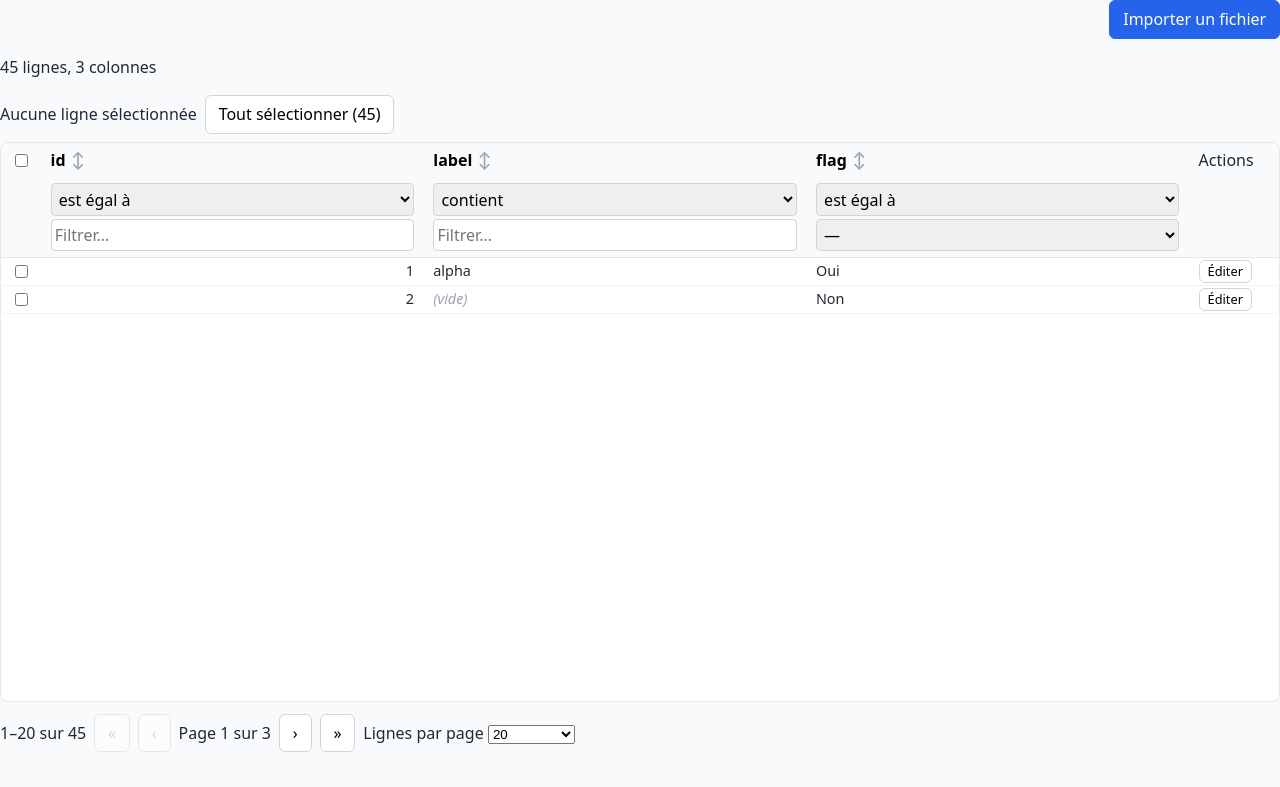
Test: DataTab: table › deletes the ticked rows by id after confirmation, then refreshes
The image size is (1280, 787).
Click the checkbox named "Sélectionner la ligne 1".
click(22, 271)  # box x1=15 y1=265 x2=28 y2=278
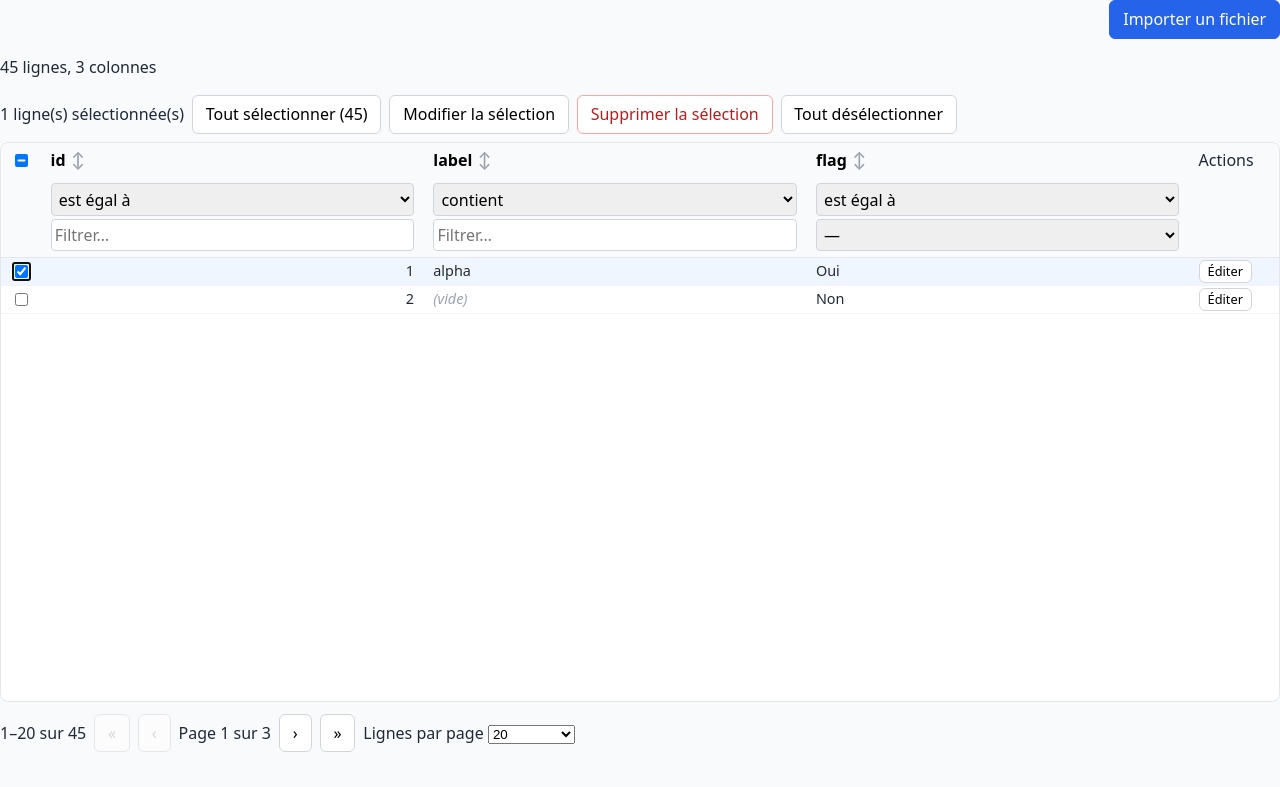
Expected: the text "1 ligne(s) sélectionnée(s)" is shown, x1=0 y1=102 x2=184 y2=126
Click the button "Supprimer la sélection".
click(675, 114)  # box x1=577 y1=95 x2=772 y2=134
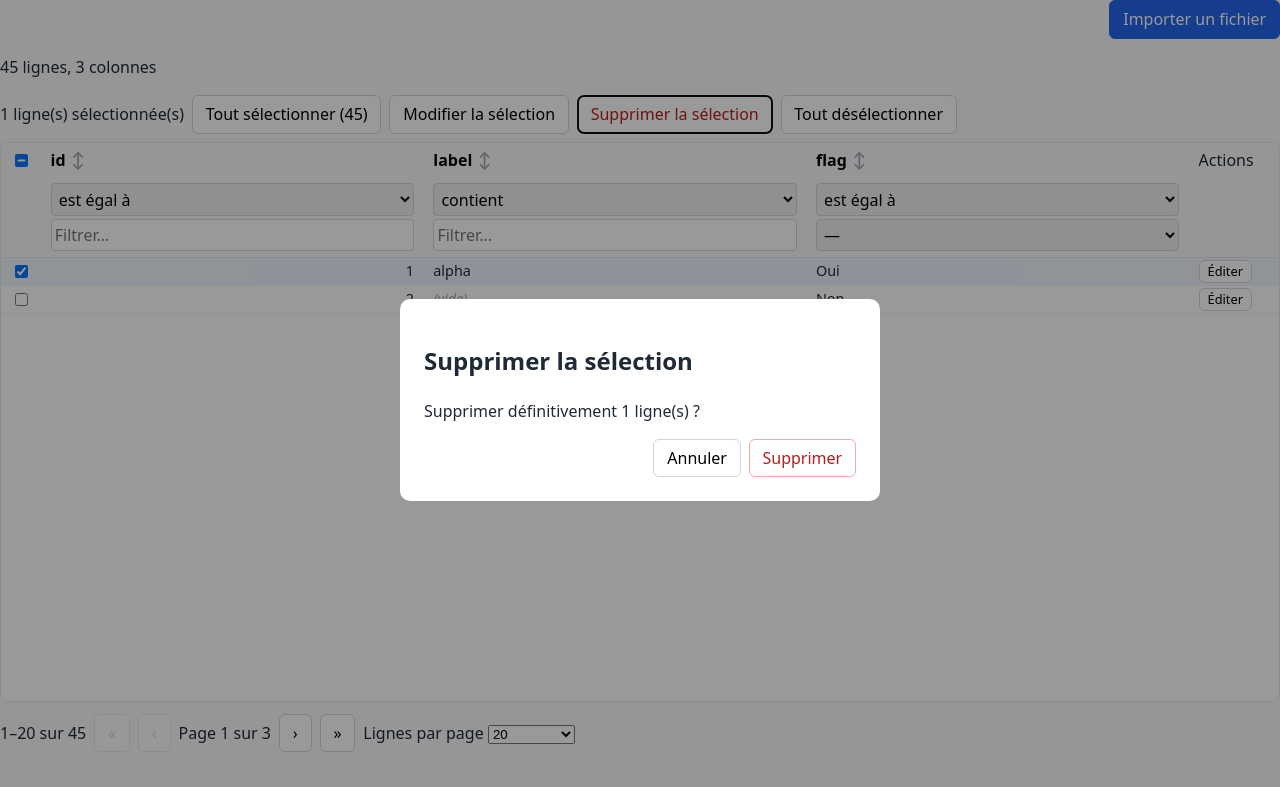
Expected: the text "Supprimer définitivement 1 ligne(s) ?" is shown, x1=424 y1=400 x2=700 y2=422
Click the button "Supprimer".
click(802, 458)  # box x1=749 y1=438 x2=856 y2=477
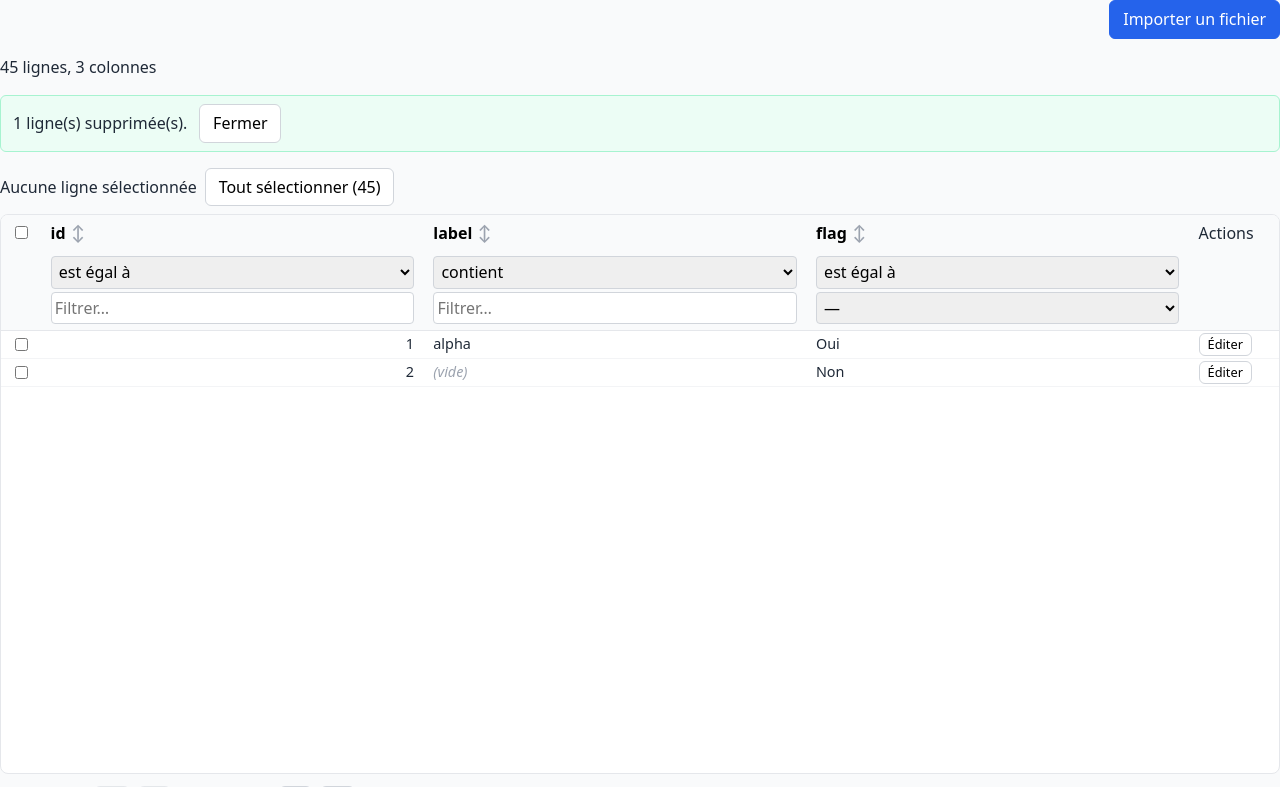
Expected: the dialog is gone
Expected: the text "1 ligne(s) supprimée(s)." is shown, x1=13 y1=111 x2=187 y2=135
Expected: the text "Aucune ligne sélectionnée" is shown, x1=0 y1=175 x2=197 y2=199
